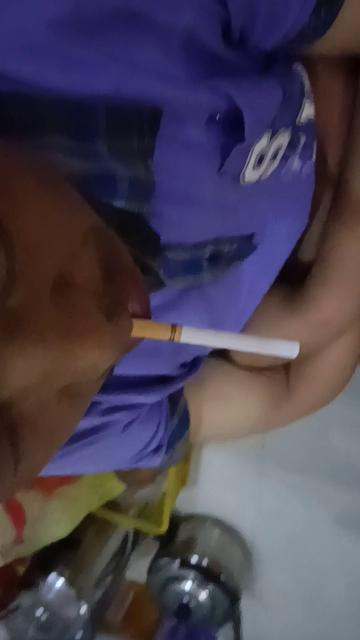Cigarette: (127, 314, 300, 362)
